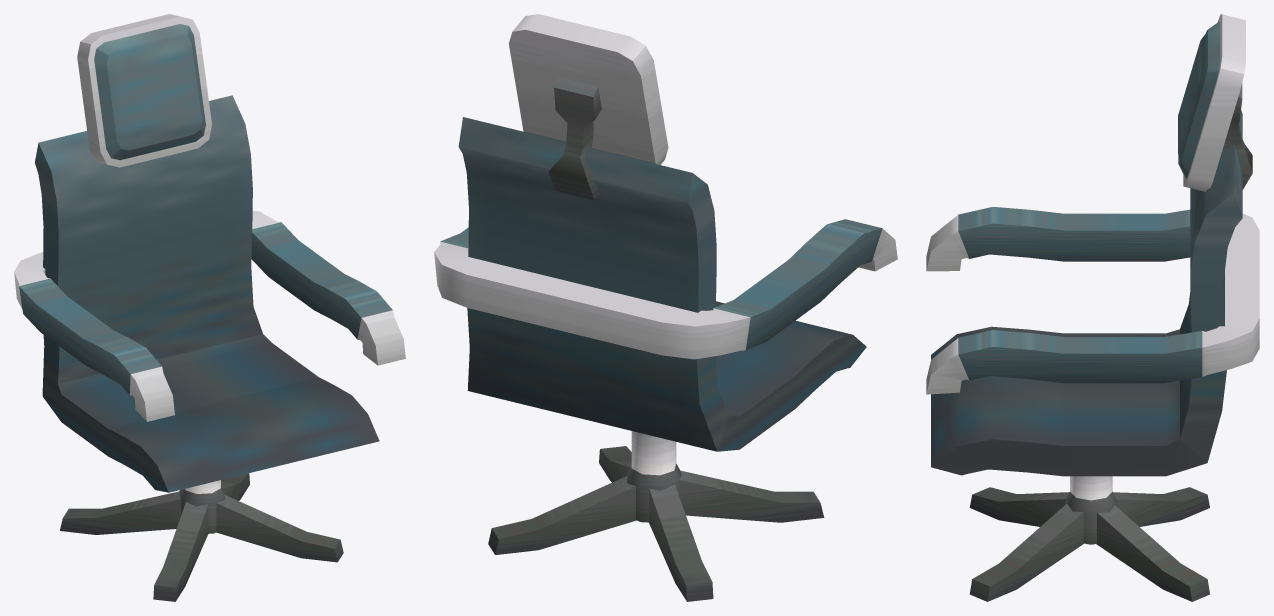
3 renders of one model, left to right at view 1: azimuth 30°, elevation 25°; view 2: azimuth 150°, elevation 25°; view 3: azimuth 270°, elevation 25°, orthographic. The views are drawn at different scales.
Visible parts, largest first — view 1: CommandCenterLikeFurnitureChair; view 2: CommandCenterLikeFurnitureChair; view 3: CommandCenterLikeFurnitureChair.
Part boxes in pixels (left/top/right/bottom): CommandCenterLikeFurnitureChair: left=14, top=14, right=405, bottom=601; CommandCenterLikeFurnitureChair: left=434, top=14, right=897, bottom=601; CommandCenterLikeFurnitureChair: left=926, top=14, right=1259, bottom=601.
Size of what is drawn, in the model's own units: 1.09 by 1.87 by 1.1.
1 material, 1 textured.
